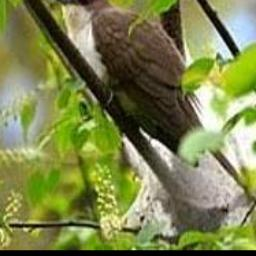Cuckoo: (47, 0, 256, 217)
